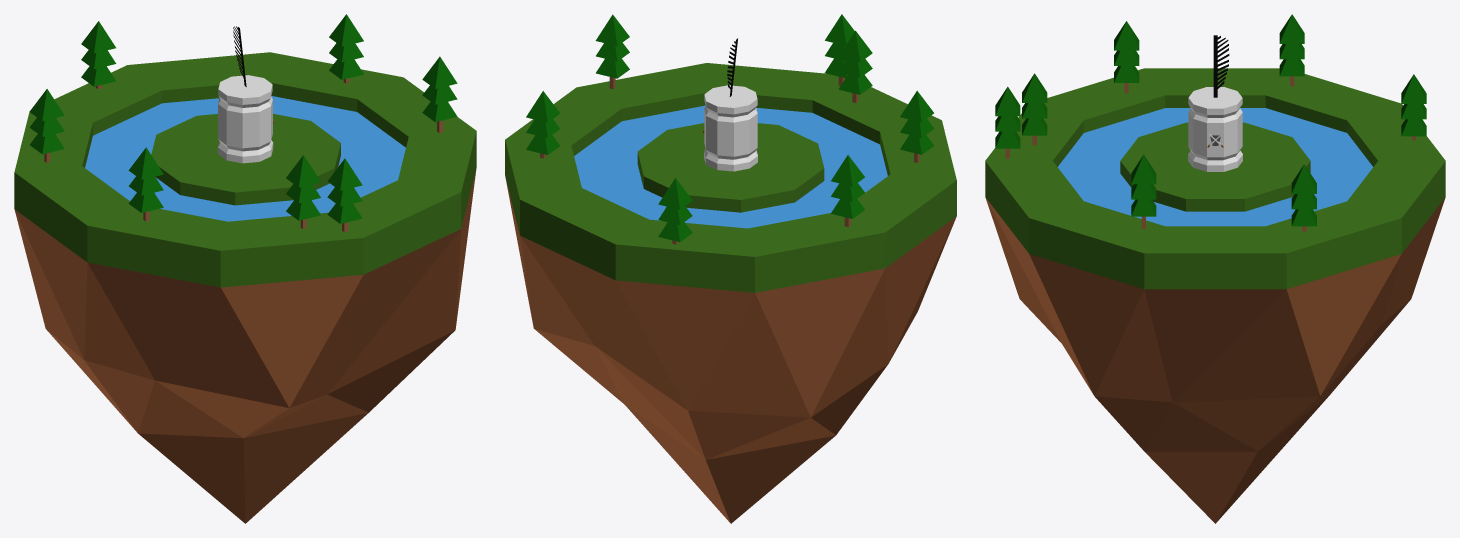
The model's file is featherland.glb.
3 views of the same model, side by side, from view 1: azimuth 30°, elevation 25°; view 2: azimuth 150°, elevation 25°; view 3: azimuth 270°, elevation 25° (orthographic). The views are drawn at different scales.
Parts seen in each view (by area): view 1: Icosphere001, Icosphere, Plane003, Plane007, Plane005, Plane002, Plane006, Plane004, Plane008; view 2: Icosphere001, Icosphere, Plane003, Plane006, Plane002, Plane005, Plane004, Plane008, Plane007; view 3: Icosphere001, Icosphere, Plane003, Plane002, Plane006, Plane007, Plane004, Plane005, Plane008, Plane.
Boxes of the visible parts, left/top/right/bottom form: Icosphere001: left=14, top=52, right=476, bottom=287; Icosphere: left=14, top=169, right=476, bottom=523; Plane003: left=422, top=56, right=457, bottom=132; Plane007: left=327, top=158, right=362, bottom=232; Plane005: left=128, top=147, right=163, bottom=221; Plane002: left=29, top=89, right=64, bottom=162; Plane006: left=286, top=155, right=320, bottom=228; Plane004: left=329, top=14, right=363, bottom=83; Plane008: left=81, top=21, right=116, bottom=89; Icosphere001: left=505, top=63, right=956, bottom=292; Icosphere: left=505, top=177, right=956, bottom=523; Plane003: left=595, top=14, right=629, bottom=89; Plane006: left=838, top=30, right=872, bottom=102; Plane002: left=831, top=155, right=864, bottom=226; Plane005: left=900, top=90, right=934, bottom=162; Plane004: left=526, top=91, right=560, bottom=158; Plane008: left=658, top=178, right=692, bottom=244; Plane007: left=825, top=14, right=854, bottom=85; Icosphere001: left=985, top=68, right=1445, bottom=289; Icosphere: left=985, top=197, right=1445, bottom=523; Plane003: left=1131, top=154, right=1156, bottom=228; Plane002: left=1279, top=14, right=1304, bottom=86; Plane006: left=1022, top=73, right=1047, bottom=145; Plane007: left=995, top=86, right=1020, bottom=158; Plane004: left=1291, top=164, right=1316, bottom=231; Plane005: left=1114, top=21, right=1139, bottom=92; Plane008: left=1401, top=74, right=1426, bottom=140; Plane: left=1213, top=35, right=1229, bottom=97.
Bounding box in the file's own units: 1.98 × 2.42 × 2.08.
